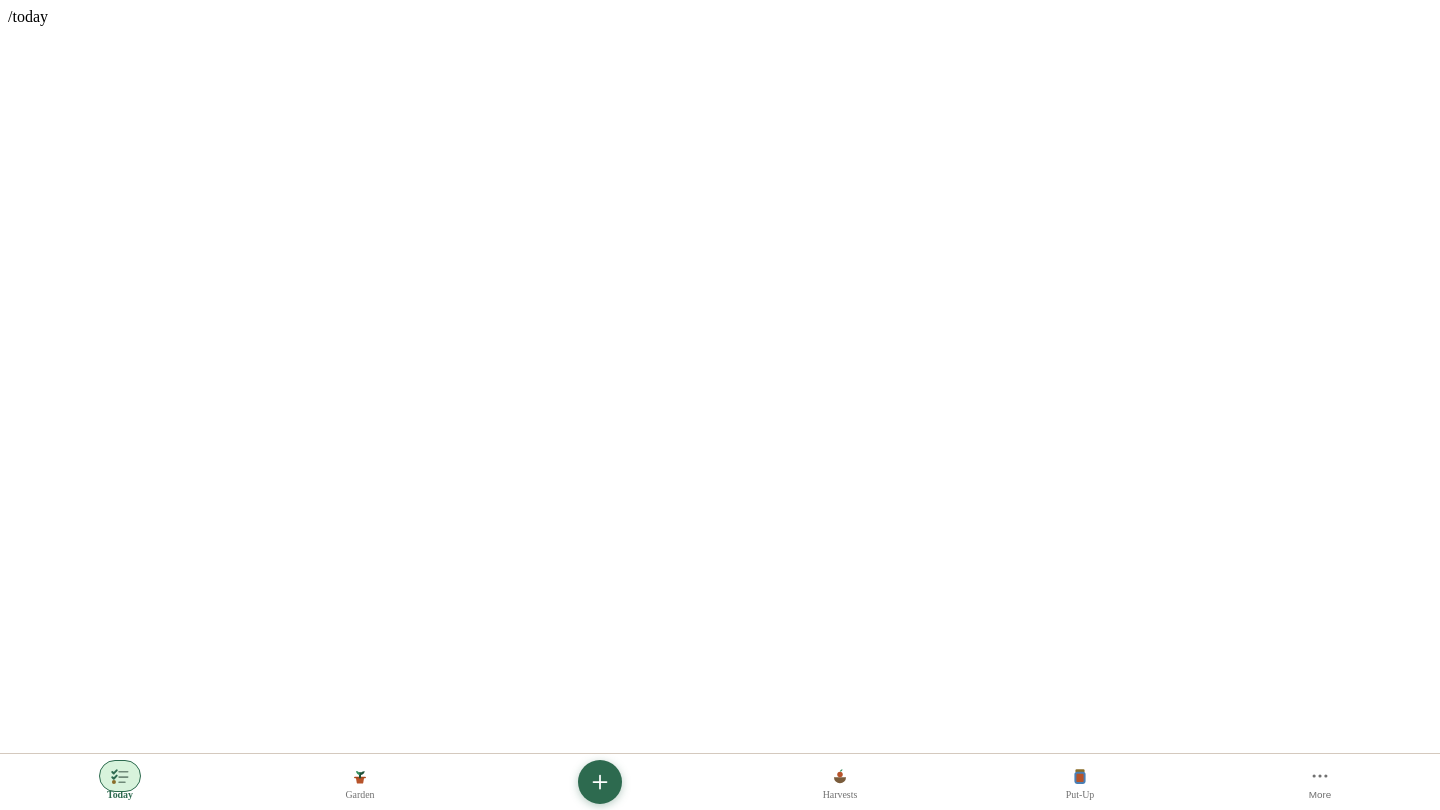
Test: ACCEPTANCE 3 — the second sheet (+LOG create) gets identical treatment › an OVERLAY row (Log an event) keeps its background state through the replace
Click the button named "Create" at x=600, y=782, box [480,754,720,809]
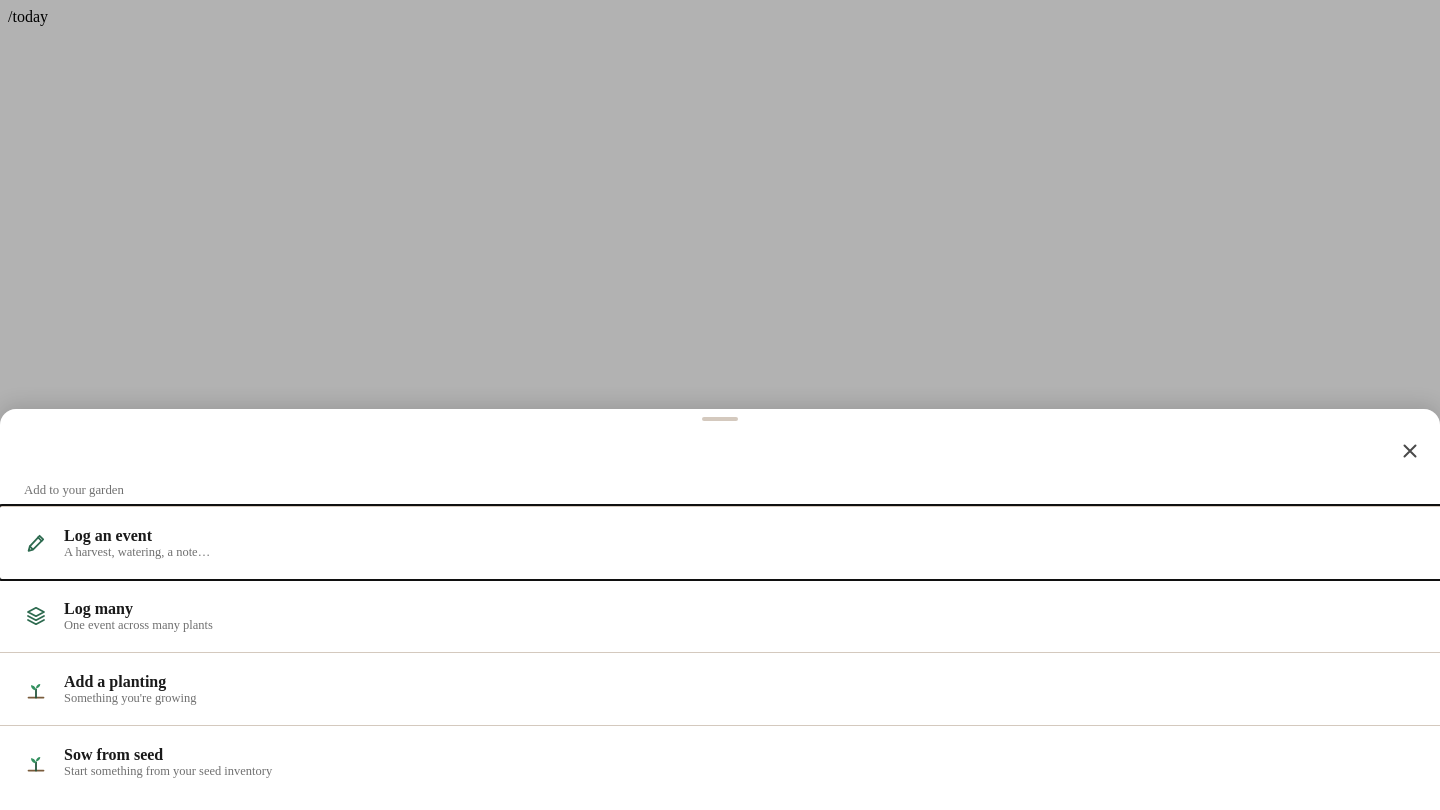
Click the text "Log an event" at x=108, y=535, box [64,526,152,544]
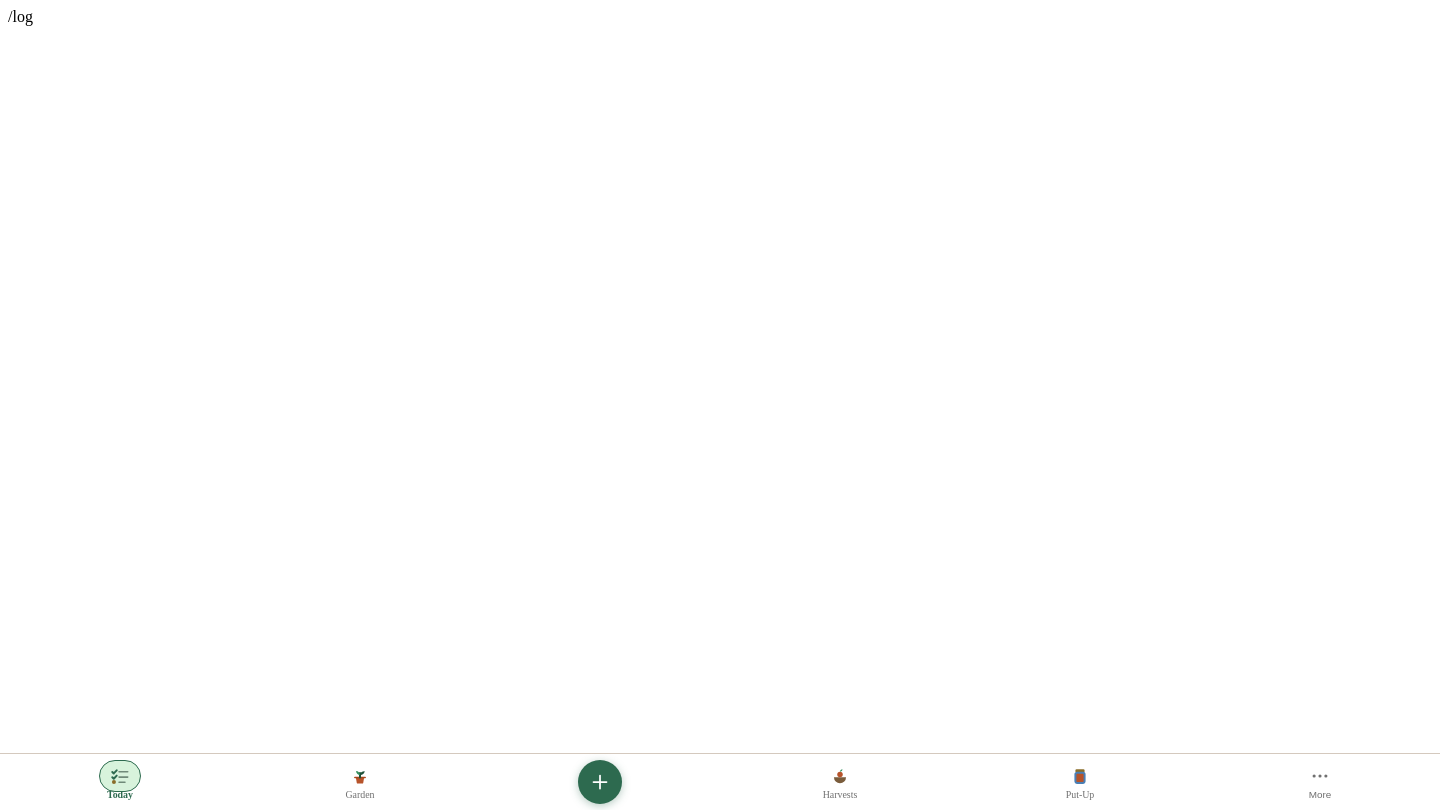
Result: the text with test id "path" reads "/log" at [8,8,33,25]
